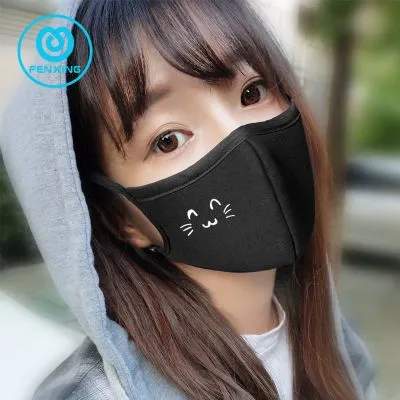withmask: (49, 5, 339, 294)
